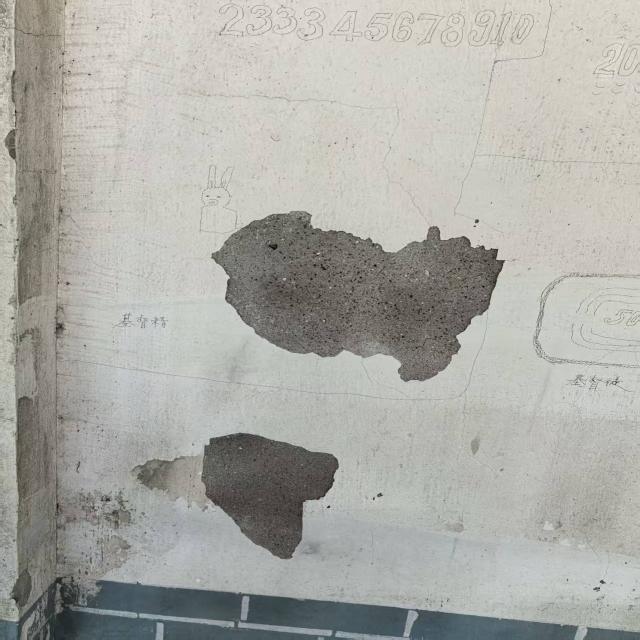spalling: (211, 206, 511, 389), (193, 433, 343, 563)
